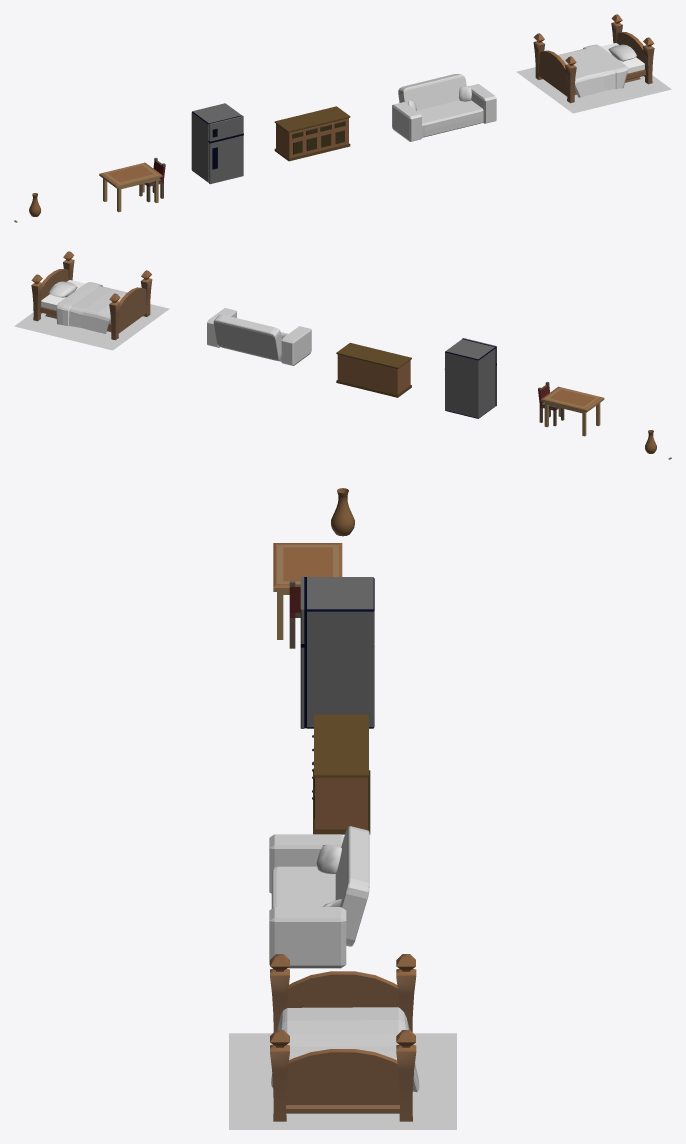
The model's file is ObjetosCasa.fbx.
3 renders of one model, top to bottom at view 1: azimuth 30°, elevation 25°; view 2: azimuth 150°, elevation 25°; view 3: azimuth 270°, elevation 25°, orthographic. The views are drawn at different scales.
Parts seen in each view (by area): view 1: Sofa, Geladeira, Buffet, Cama, Coberta, Plane, Mesa, Cadeira, Travesseiro; view 2: Geladeira, Sofa, Buffet, Cama, Coberta, Plane, Mesa, Cadeira, Travesseiro, Colchao; view 3: Cama, Sofa, Geladeira, Plane, Buffet, Coberta, Mesa.
Part boxes in pixels (x1=…): Sofa: x1=392, y1=73, x2=496, y2=141; Geladeira: x1=191, y1=103, x2=243, y2=184; Buffet: x1=274, y1=106, x2=350, y2=161; Cama: x1=533, y1=14, x2=654, y2=103; Coberta: x1=558, y1=44, x2=628, y2=97; Plane: x1=516, y1=67, x2=671, y2=113; Mesa: x1=99, y1=162, x2=162, y2=212; Cadeira: x1=139, y1=157, x2=165, y2=202; Travesseiro: x1=608, y1=44, x2=636, y2=61; Geladeira: x1=444, y1=338, x2=496, y2=418; Sofa: x1=207, y1=308, x2=311, y2=365; Buffet: x1=336, y1=343, x2=411, y2=397; Cama: x1=31, y1=251, x2=152, y2=340; Coberta: x1=56, y1=282, x2=127, y2=333; Plane: x1=14, y1=304, x2=169, y2=350; Mesa: x1=541, y1=386, x2=604, y2=436; Cadeira: x1=538, y1=381, x2=564, y2=426; Travesseiro: x1=48, y1=281, x2=77, y2=297; Colchao: x1=41, y1=280, x2=110, y2=323; Cama: x1=270, y1=954, x2=416, y2=1121; Sofa: x1=269, y1=826, x2=369, y2=968; Geladeira: x1=300, y1=576, x2=374, y2=728; Plane: x1=229, y1=1033, x2=456, y2=1129; Buffet: x1=312, y1=714, x2=370, y2=834; Coberta: x1=271, y1=1007, x2=419, y2=1091; Mesa: x1=273, y1=543, x2=342, y2=639.
Size of the model in its own units: 10259 by 936 by 1614.
